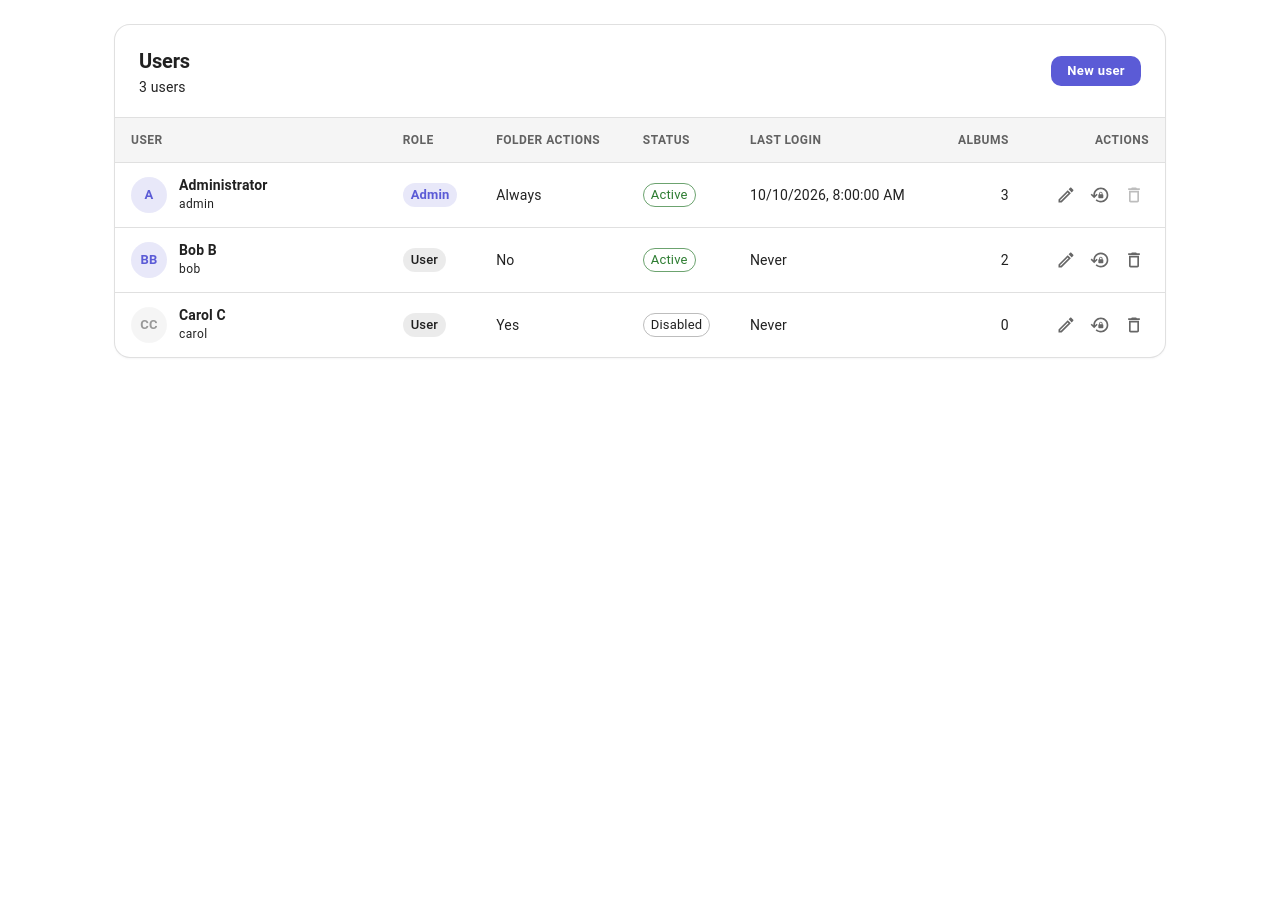
Scenario: UsersPage › shows the folder-actions checkbox checked and disabled when the role is Admin
This screenshot has width=1280, height=900.
Click the button "New user". click: (1096, 71)
box: [1051, 56, 1141, 86]
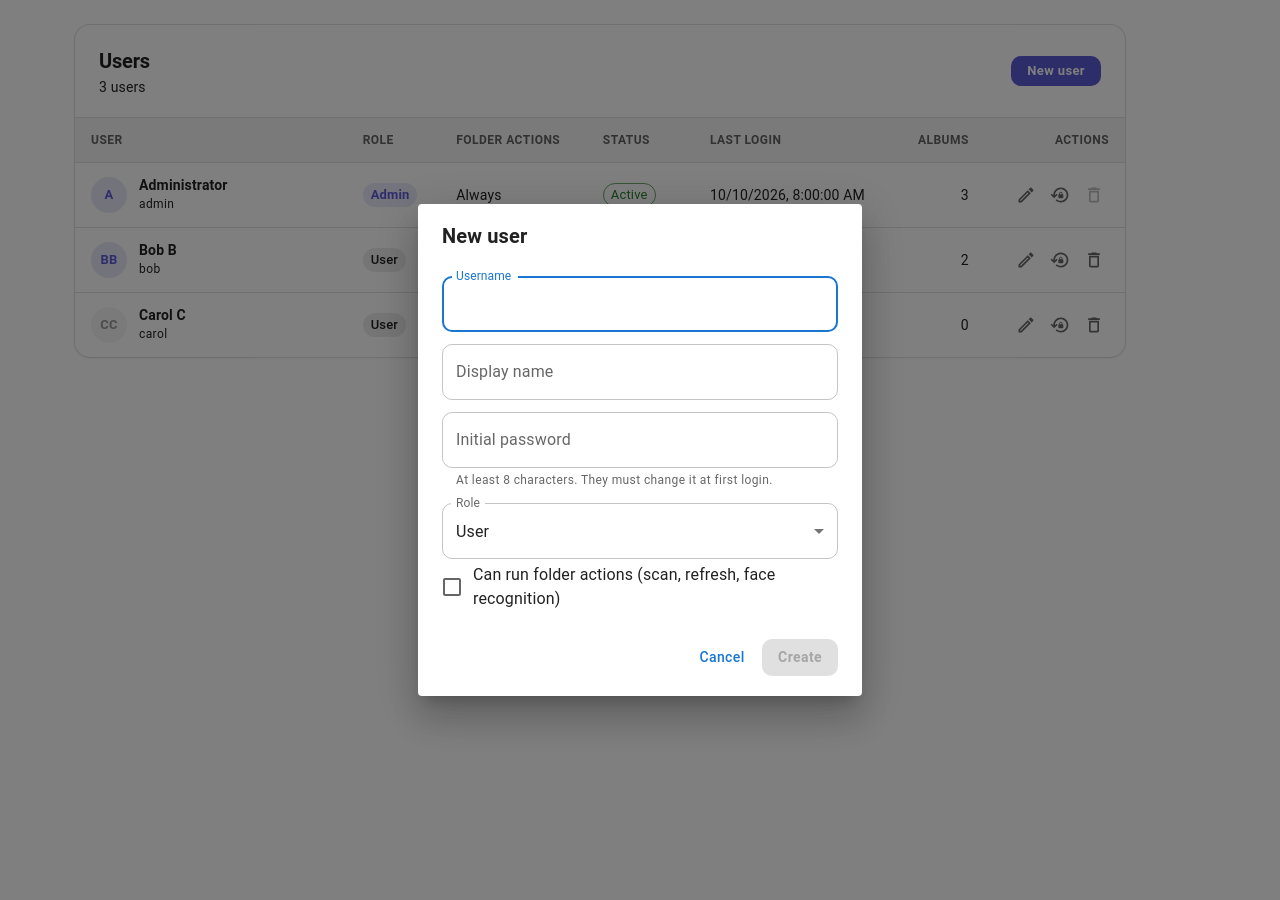
Check: the checkbox labelled "Can run folder actions (scan, refresh, face recognition)" is not checked, box [431, 563, 822, 611]
Check: the checkbox labelled "Can run folder actions (scan, refresh, face recognition)" is enabled, box [431, 563, 822, 611]
Click the dropdown named "Role". click: (473, 531)
box: [456, 522, 489, 541]
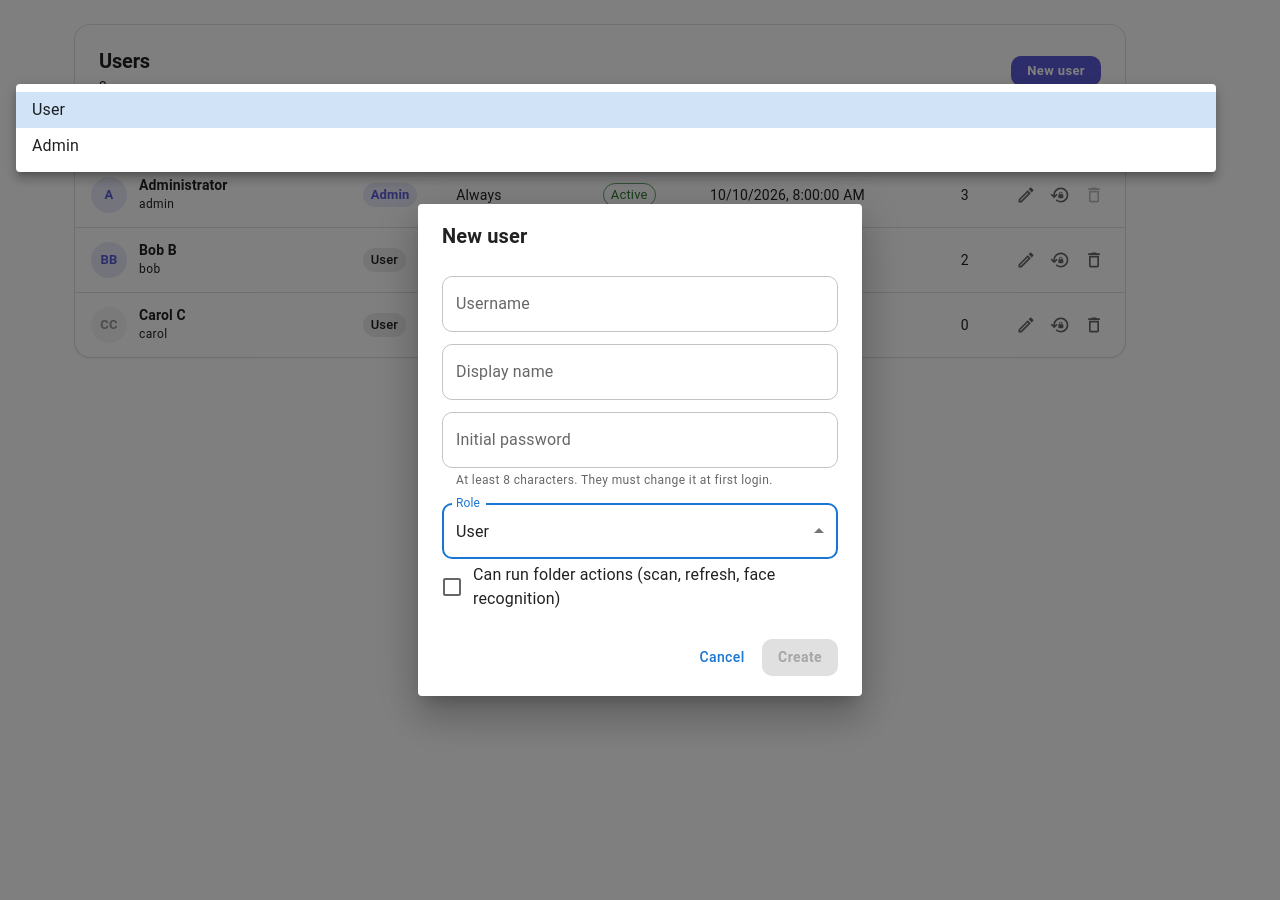
Click the option "Admin". click: (56, 146)
box: [32, 136, 79, 155]
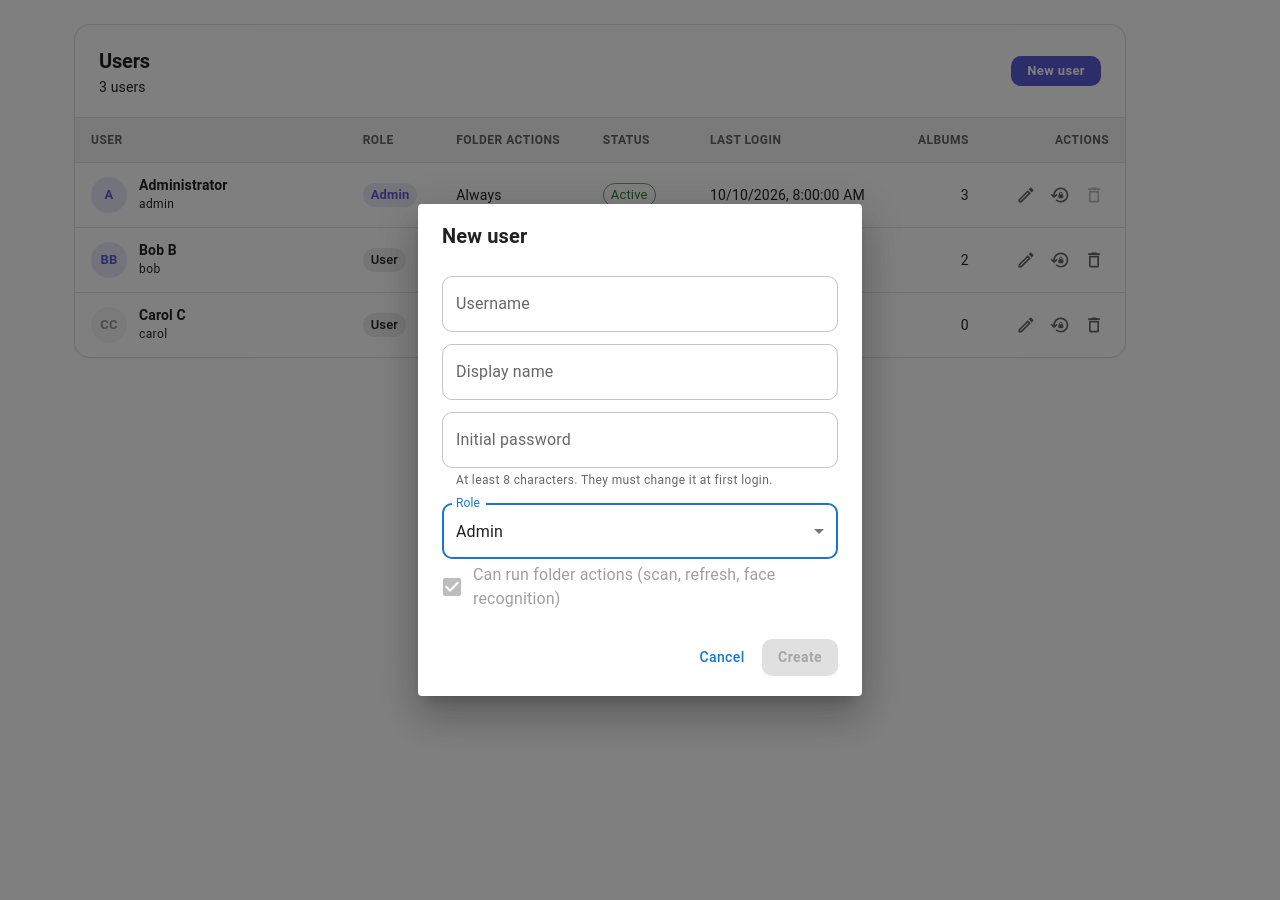
Check: the checkbox labelled "Can run folder actions (scan, refresh, face recognition)" is checked, box [431, 563, 822, 611]
Check: the checkbox labelled "Can run folder actions (scan, refresh, face recognition)" is disabled, box [431, 563, 822, 611]
